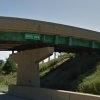Bridge: (3, 6, 85, 67)
